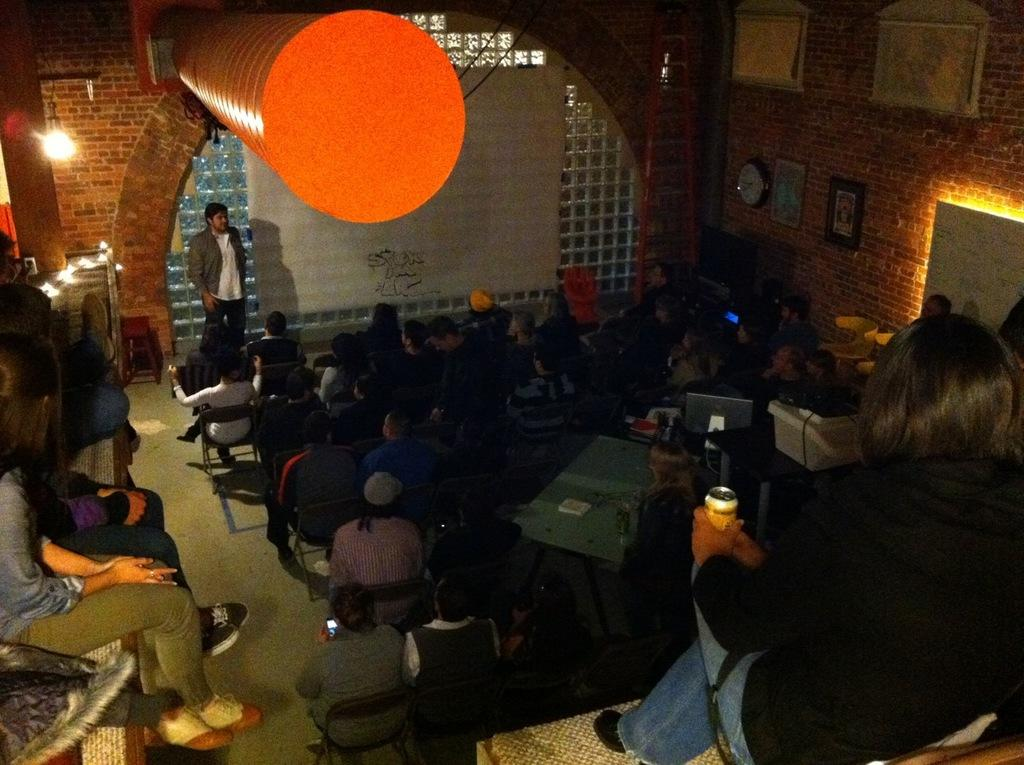Sem Máscara: (207, 209, 226, 230)
